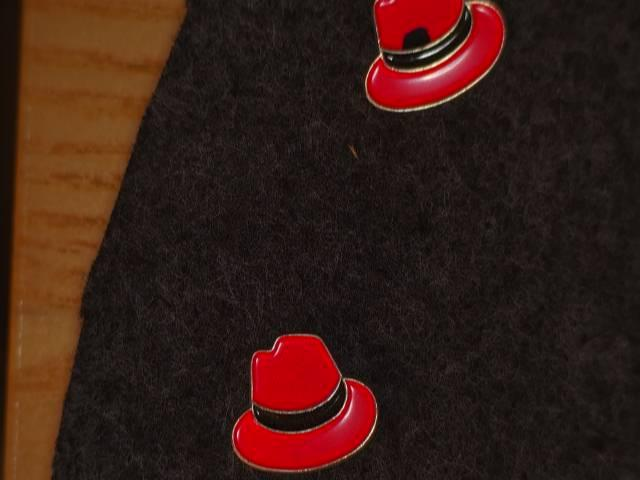Red-Hat: (218, 317, 405, 480), (354, 0, 532, 139)
Scratch: (392, 22, 448, 69)
